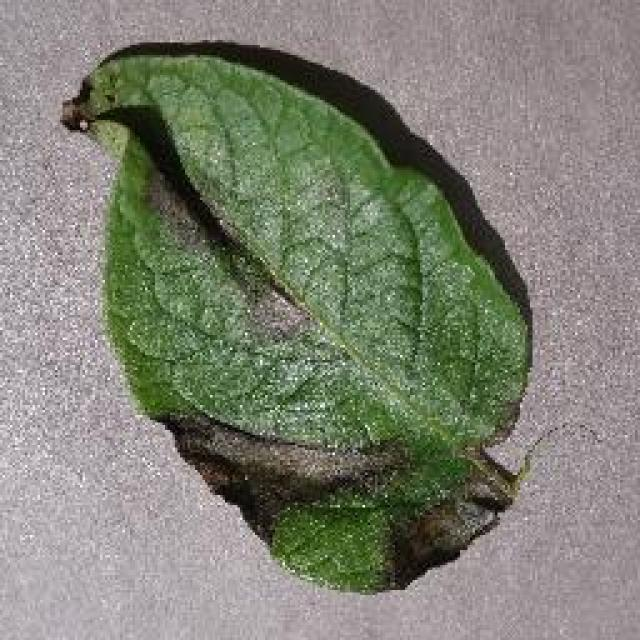late_blight: (62, 35, 538, 595)
